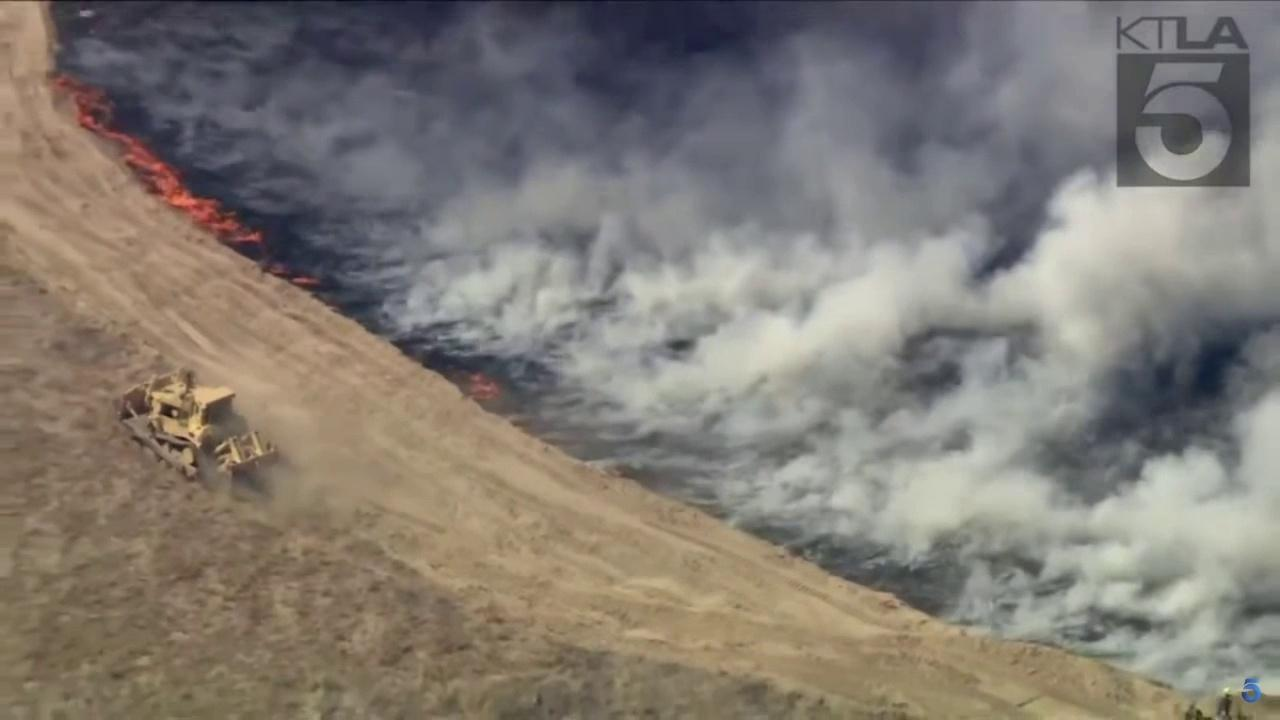fire: (51, 73, 266, 254), (463, 371, 501, 404), (290, 277, 324, 287)
smoke: (50, 0, 1280, 695)
